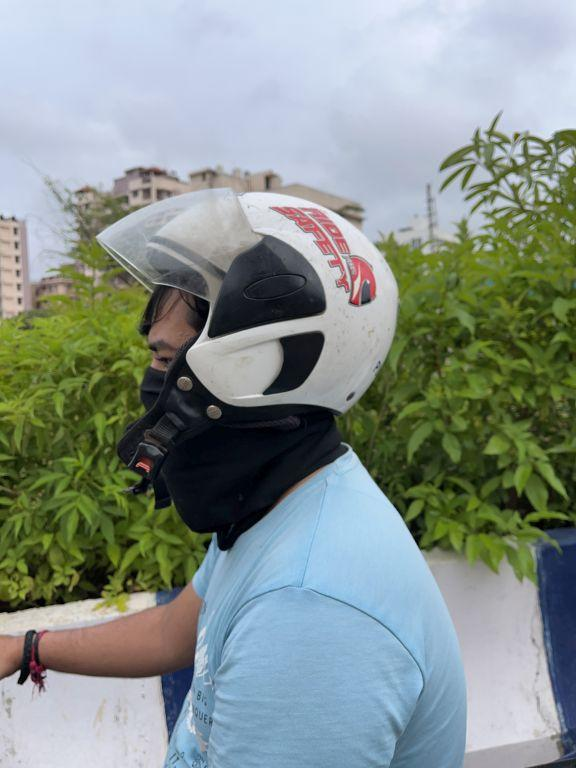helmet: (99, 160, 412, 447)
